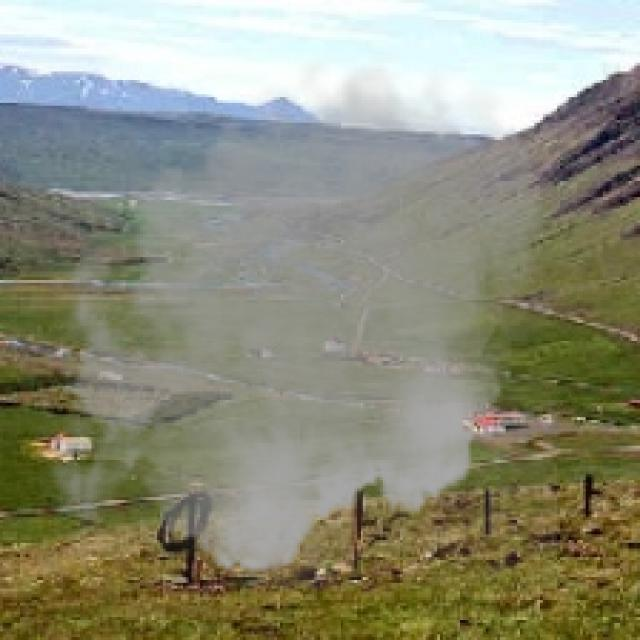smoke: (32, 46, 557, 588)
